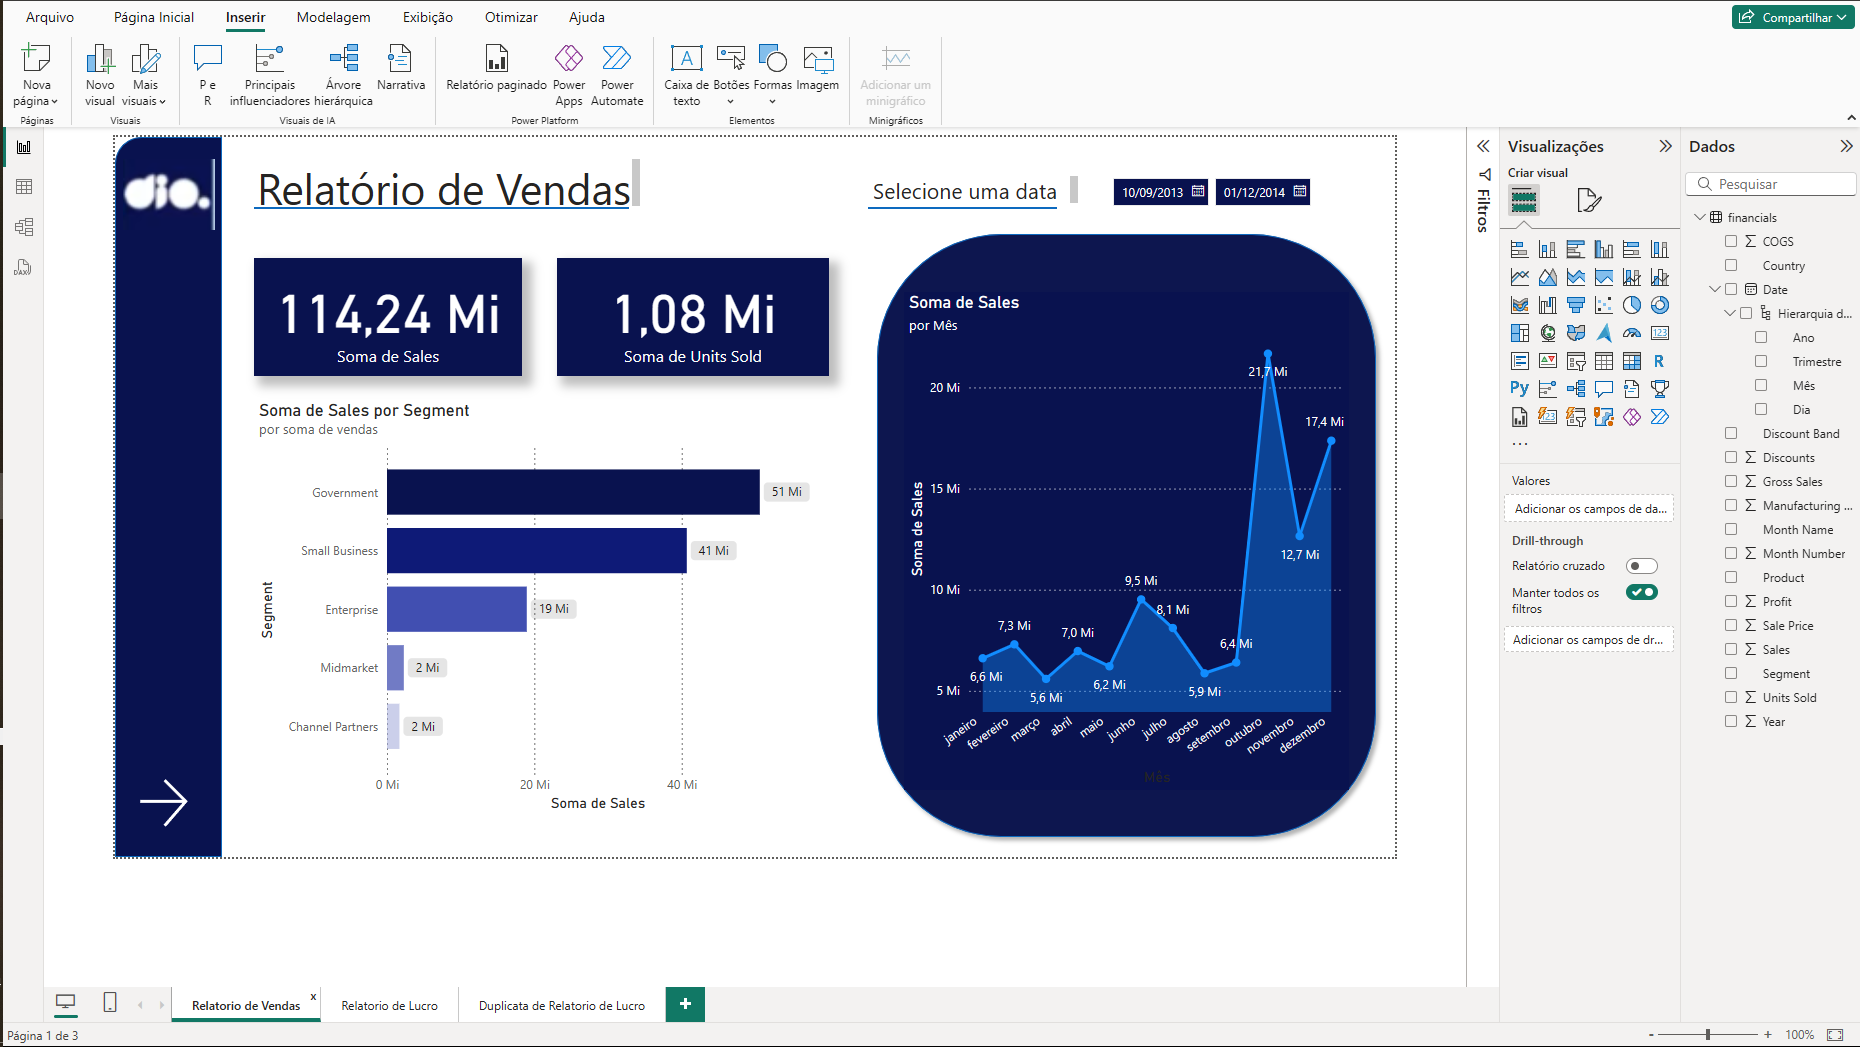

This screenshot's page, from the dashboard's own definition file:
{"tool":"powerbi","page":{"name":"Relatorio de Vendas","canvas":[1280,720],"ordinal":0},"visuals":[{"type":"shape","box":[0,0,107,720],"z":0},{"type":"textbox","box":[137,17,393,62],"z":1000},{"type":"image","box":[0,17,107,81],"z":2000},{"type":"actionButton","box":[18,636,63,60],"z":3000},{"type":"shape","box":[139,44,375,54],"z":4000},{"type":"card","fields":{"Values":["Sum(financials. Sales)"]},"box":[139,121,268,118],"z":5000},{"type":"card","fields":{"Values":["Sum(financials.Units Sold)"]},"box":[442,121,272,118],"z":6000},{"type":"clusteredBarChart","fields":{"Y":["Sum(financials. Sales)"],"Category":["financials.Segment"]},"box":[139,263,575,416],"z":7000},{"type":"shape","box":[753,88,517,621],"z":8000},{"type":"areaChart","fields":{"Category":["financials.Date.Variation.Hierarquia de datas.Mês"],"Y":["Sum(financials.Sales)"]},"box":[789,155,445,498],"z":9000},{"type":"textbox","box":[753,34,215,45],"z":10000},{"type":"slicer","fields":{"Values":["financials.Date"]},"box":[985,31,231,48],"z":11000},{"type":"shape","box":[753,44,189,54],"z":12000}]}

Visuals, with their boxes on the page's 1280x720 design canvas (x1, y1, x2, y2). These are canvas units, not pixel positions in the 1860x1047 screenshot, which may show the page scaled, cropped or inside an application window:
shape: bbox(0, 0, 107, 720)
textbox: bbox(137, 17, 530, 79)
image: bbox(0, 17, 107, 98)
actionButton: bbox(18, 636, 81, 696)
shape: bbox(139, 44, 514, 98)
card - Sum(financials. Sales): bbox(139, 121, 407, 239)
card - Sum(financials.Units Sold): bbox(442, 121, 714, 239)
clusteredBarChart - Sum(financials. Sales) x financials.Segment: bbox(139, 263, 714, 679)
shape: bbox(753, 88, 1270, 709)
areaChart - financials.Date.Variation.Hierarquia de datas.Mês x Sum(financials.Sales): bbox(789, 155, 1234, 653)
textbox: bbox(753, 34, 968, 79)
slicer - financials.Date: bbox(985, 31, 1216, 79)
shape: bbox(753, 44, 942, 98)
